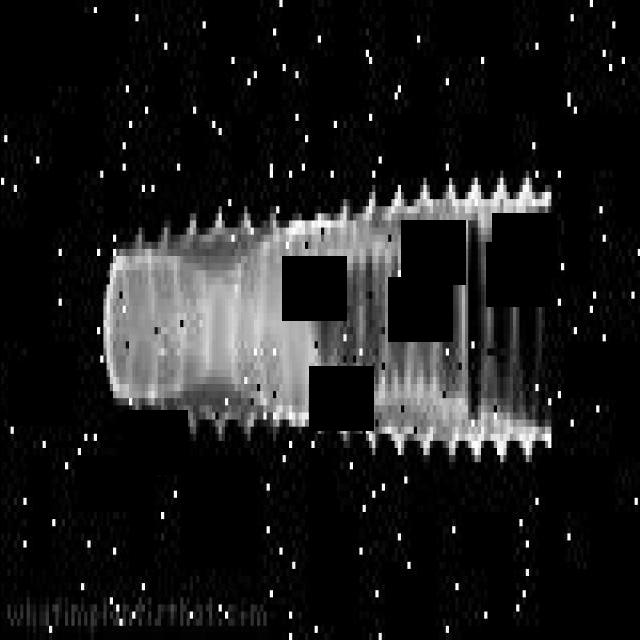Titan Implant Implant: (99, 192, 550, 462)
